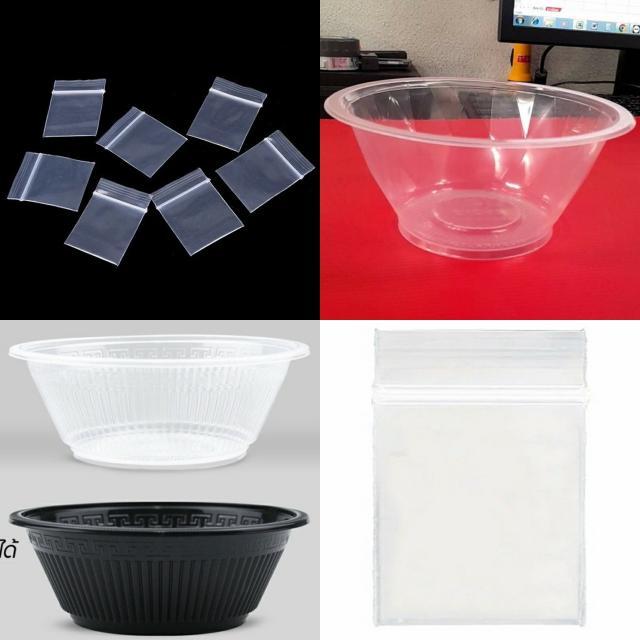Single-layer Plastic: (372, 329, 586, 624), (216, 130, 314, 212), (152, 169, 244, 254), (65, 179, 150, 264), (96, 108, 186, 178), (188, 78, 266, 151), (8, 152, 95, 211), (42, 79, 106, 138)
